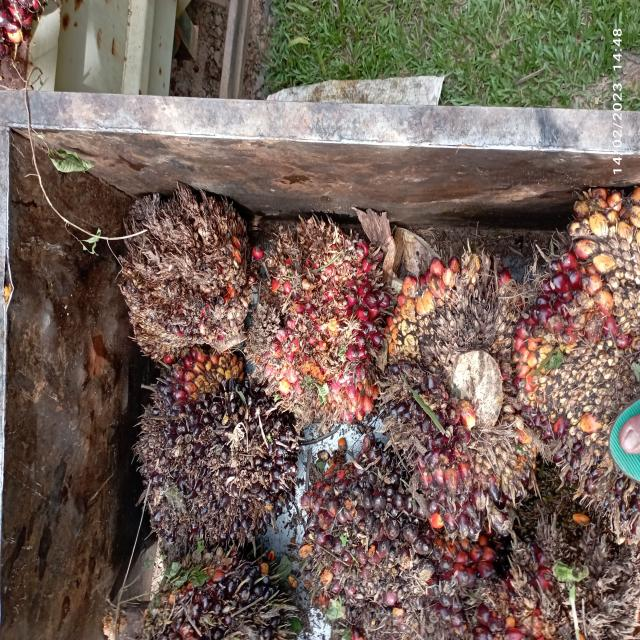fraksi 00: (118, 342, 311, 568), (296, 420, 440, 624)
fraksi 3: (224, 201, 412, 445)
